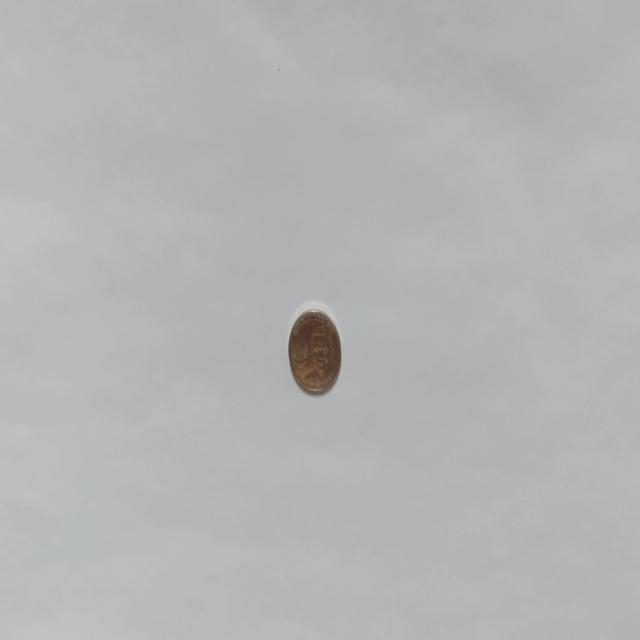seribu rupiah koin: (286, 302, 342, 396)
